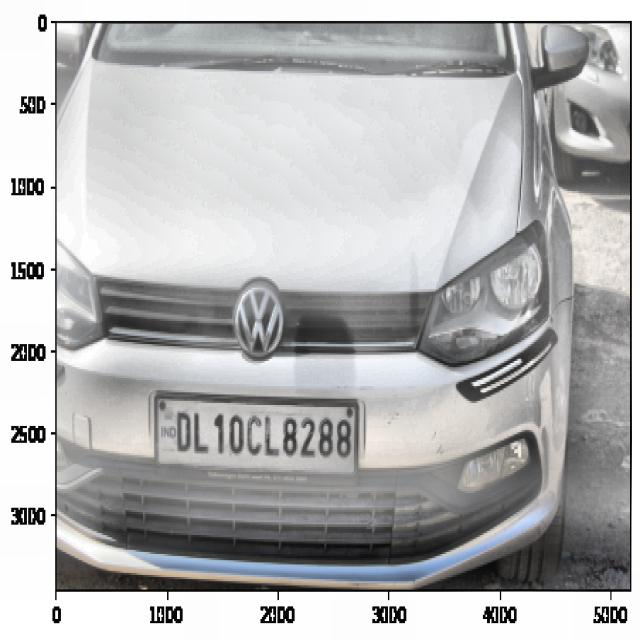license_plate: (169, 398, 355, 477)
